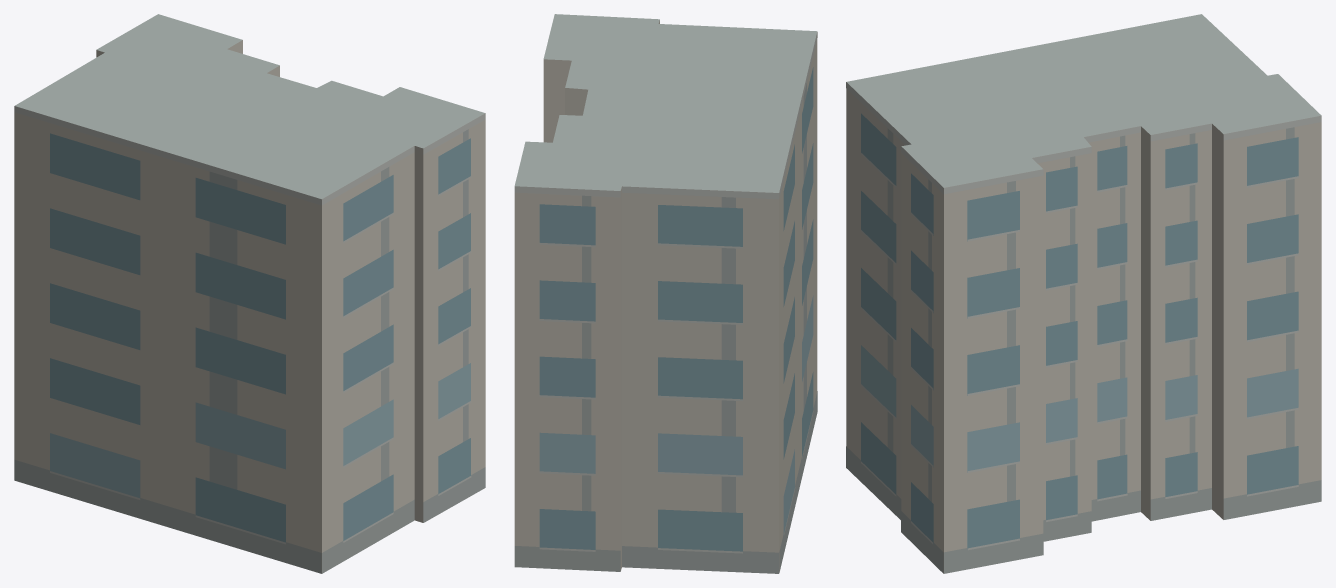
The model's file is survey-upis-32698932.glb.
3 renders of one model, left to right at view 1: azimuth 30°, elevation 25°; view 2: azimuth 150°, elevation 25°; view 3: azimuth 270°, elevation 25°, orthographic. The views are drawn at different scales.
Visible parts, largest first — view 1: survey-upis-32698932.tmp; view 2: survey-upis-32698932.tmp; view 3: survey-upis-32698932.tmp.
Boxes of the visible parts, left/top/right/bottom form: survey-upis-32698932.tmp: left=14, top=14, right=485, bottom=573; survey-upis-32698932.tmp: left=514, top=14, right=817, bottom=573; survey-upis-32698932.tmp: left=846, top=14, right=1321, bottom=573.
Bounding box in the file's own units: 14.12 × 14.6 × 16.31.
